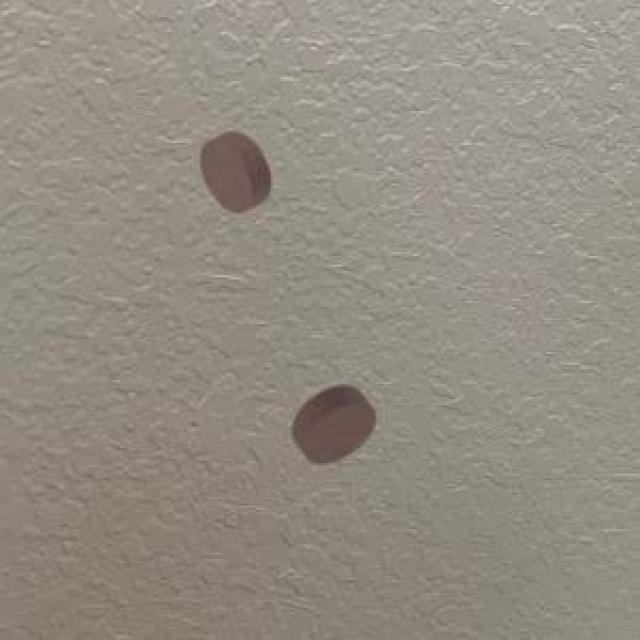Kremil_S: (283, 373, 381, 479), (188, 123, 278, 224)
